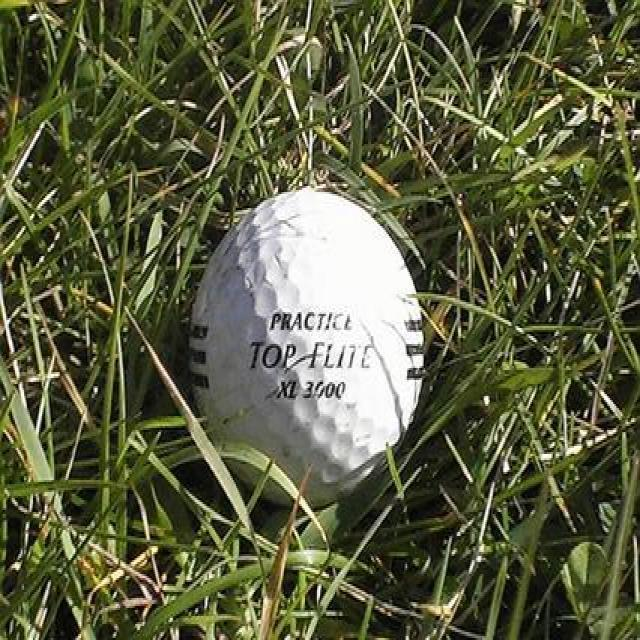golfball: (183, 184, 428, 492)
